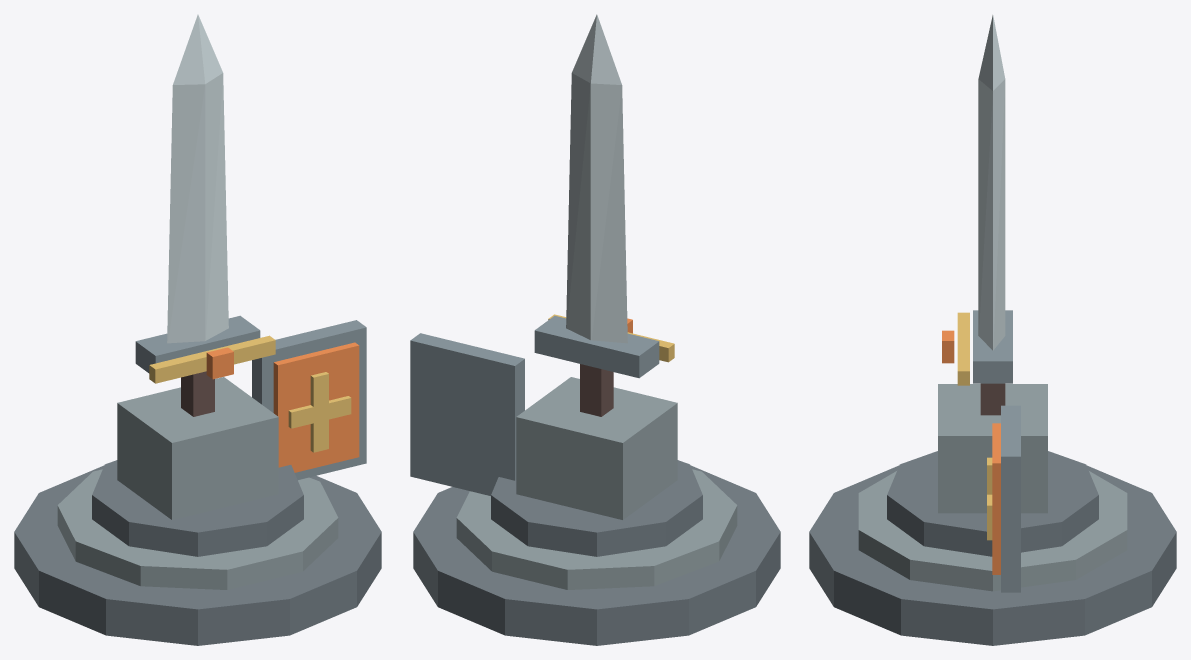
The model's file is espada-demo.glb.
3 renders of one model, left to right at view 1: azimuth 30°, elevation 25°; view 2: azimuth 150°, elevation 25°; view 3: azimuth 270°, elevation 25°, orthographic.
Bounding box in the file's own units: 1.71 × 2.73 × 1.64.
